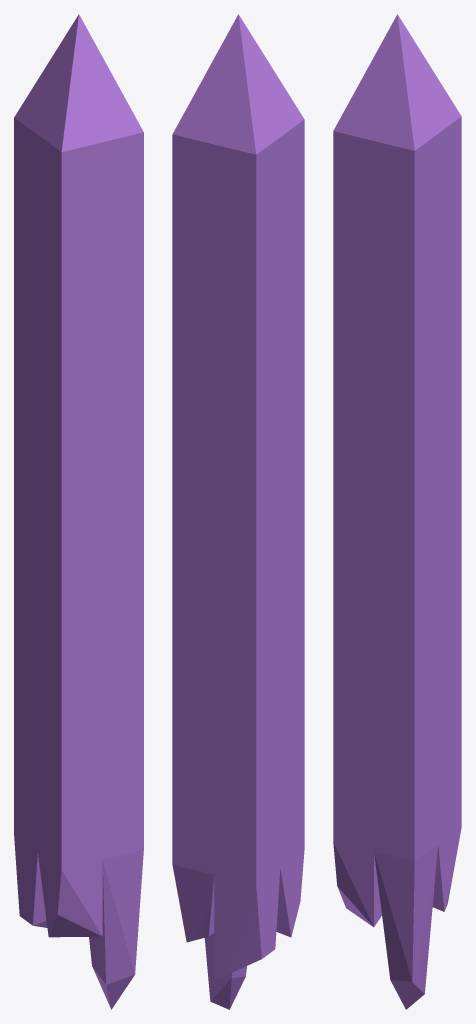
File: SM_Spire.fbx
3 views of the same model, side by side, from view 1: azimuth 30°, elevation 25°; view 2: azimuth 150°, elevation 25°; view 3: azimuth 330°, elevation 25° (orthographic). The views are drawn at different scales.
Parts seen in each view (by area): view 1: spire; view 2: spire; view 3: spire.
Boxes of the visible parts, x1,y1,x2,y2 form: spire: (14, 14, 143, 1009); spire: (172, 14, 304, 1009); spire: (333, 14, 461, 1009).
Bounding box in the file's own units: 1.04 × 12.04 × 1.04.
